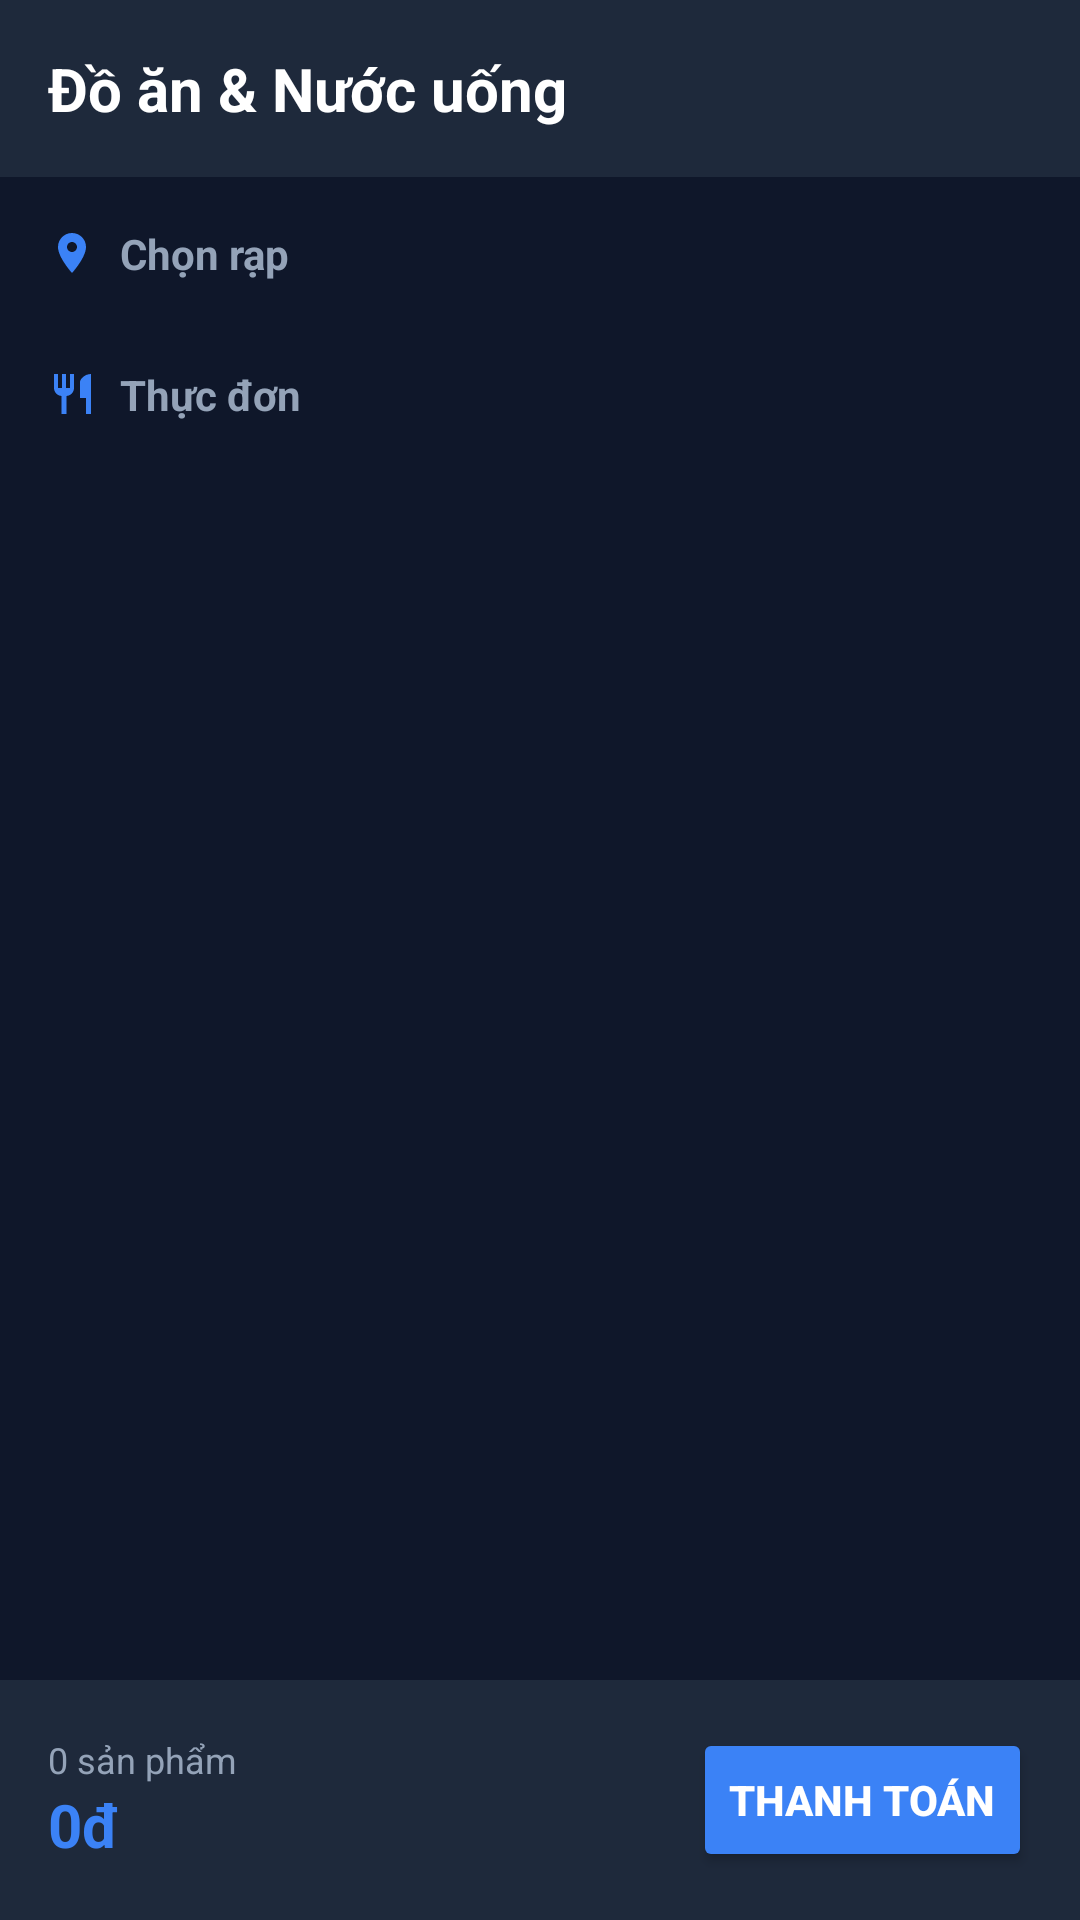

Point at icon controls on the screen. Image size 1080w x 1920h, points as (x,y).
food: (72,394)
location: (72,253)
